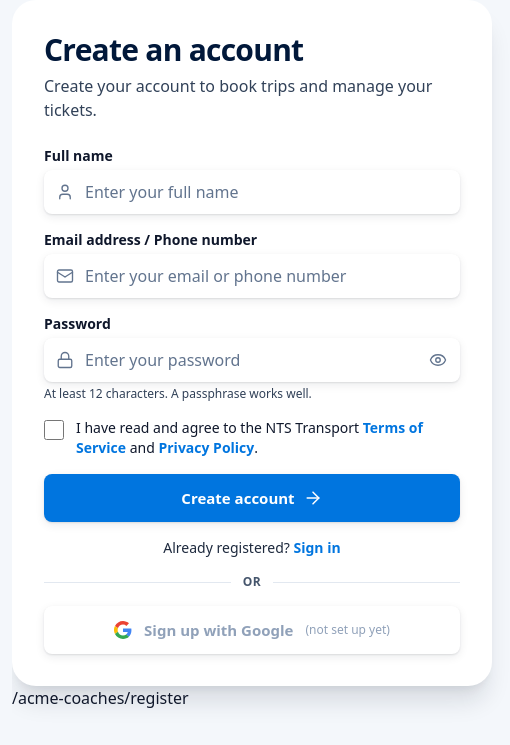
Test: Sign up with a phone number › says what is wrong with a number before sending anything
Check: the field labelled "Email address / Phone number" is shown, box [44,254,460,298]
Type "F" into the field labelled "Full name".
click(252, 192); type("F")  # box [44,170,460,214]
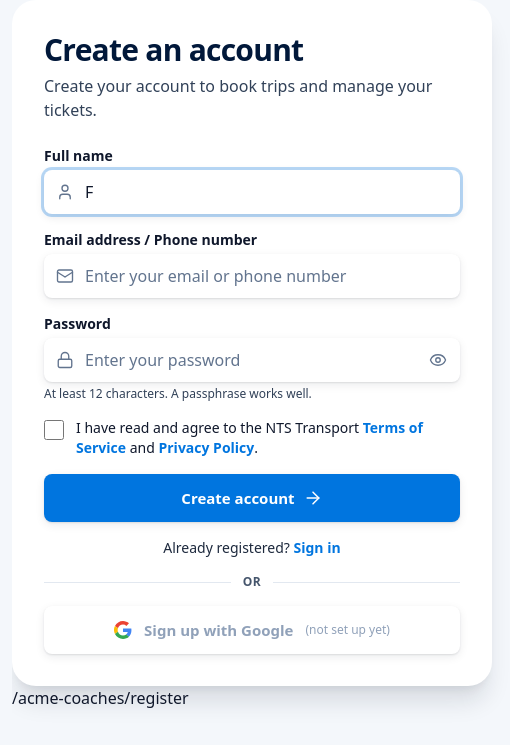
Type "1234" into the field labelled "Email address / Phone number".
click(252, 276); type("1234")  # box [44,254,460,298]
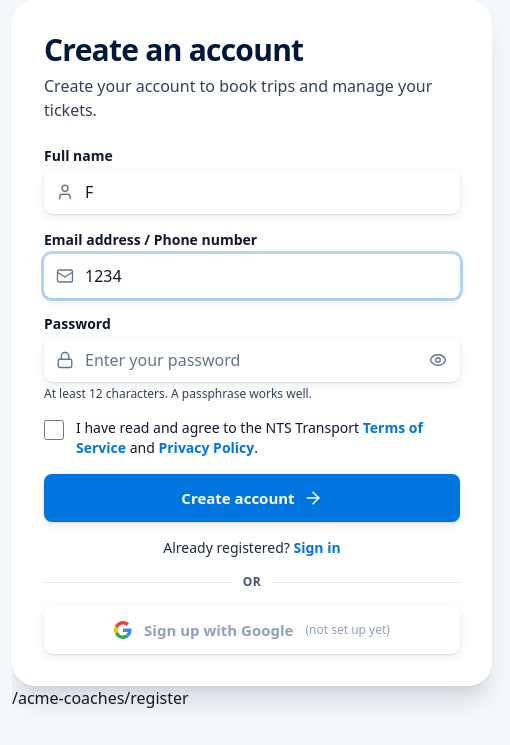
Type "a-long-enough-password" into the password field labelled "Password".
click(252, 360); type("a-long-enough-password")  # box [44,338,460,382]
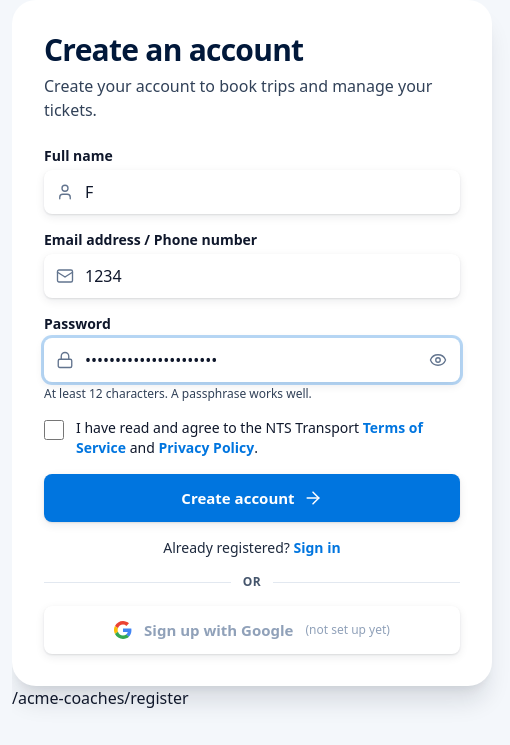
Click the checkbox.
click(54, 430)  # box [44,420,64,440]
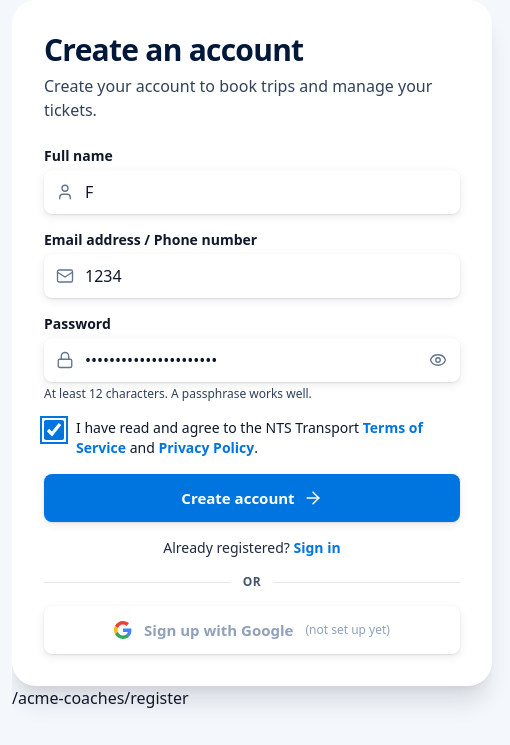
Click the button "Create account".
click(252, 498)  # box [44,474,460,522]
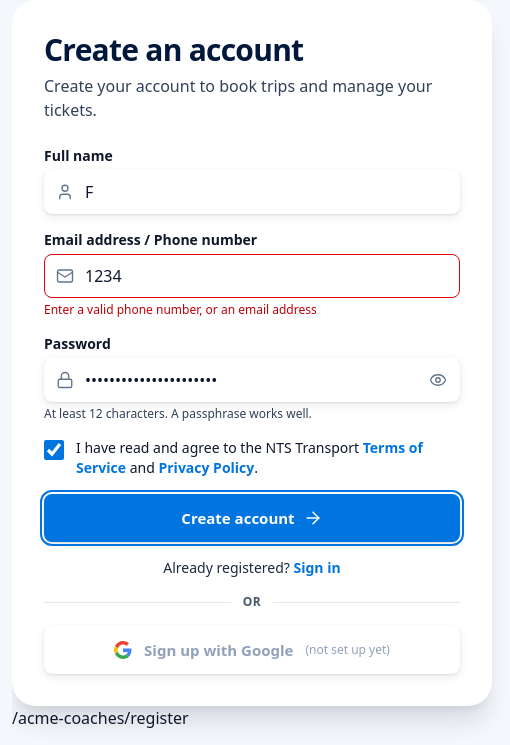
Check: the text "Enter a valid phone number, or an email address" is shown, box [44,301,317,318]
